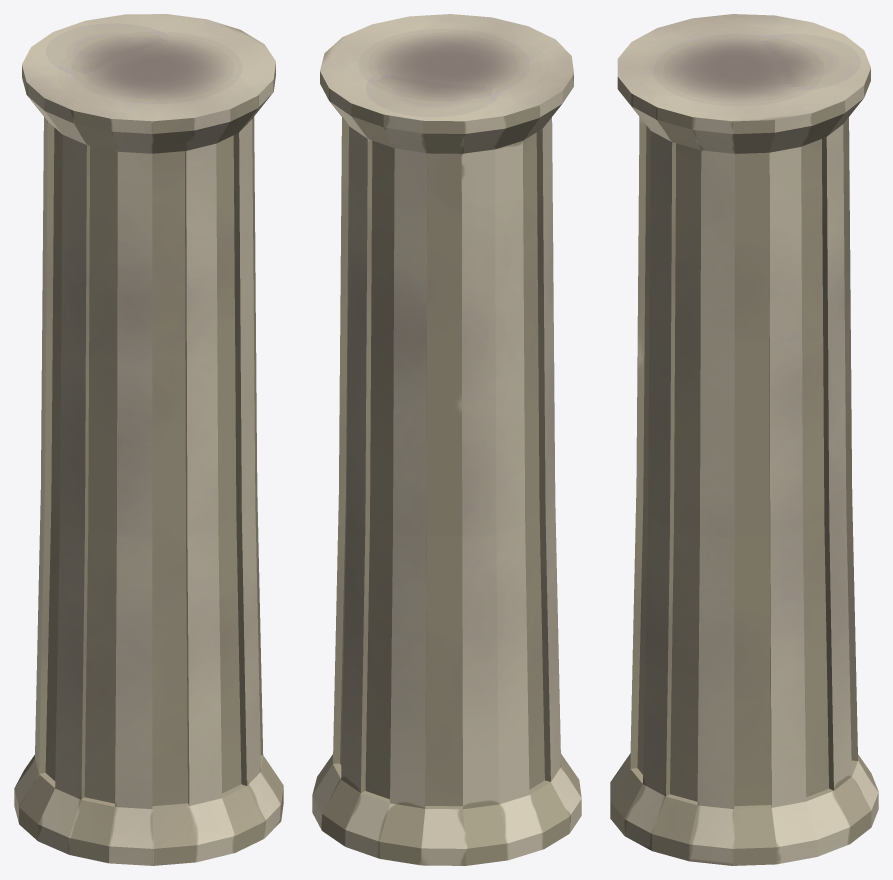
File: pillar.glb
3 renders of one model, left to right at view 1: azimuth 30°, elevation 25°; view 2: azimuth 150°, elevation 25°; view 3: azimuth 270°, elevation 25°, orthographic.
Parts seen in each view (by area): view 1: Cylinder; view 2: Cylinder; view 3: Cylinder.
Boxes of the visible parts, x1,y1,x2,y2 form: Cylinder: [14, 14, 283, 865]; Cylinder: [312, 14, 581, 865]; Cylinder: [610, 14, 878, 865].
Bounding box in the file's own units: 0.5668 × 1.72 × 0.5649.
1 material, 1 textured.
